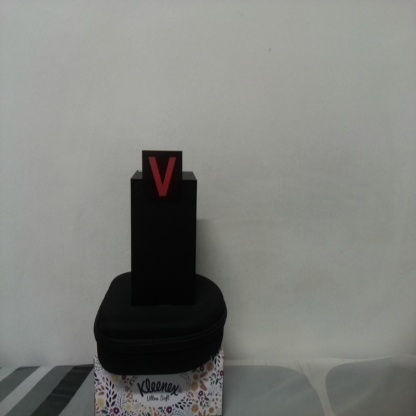id_11: (142, 151, 183, 206)
